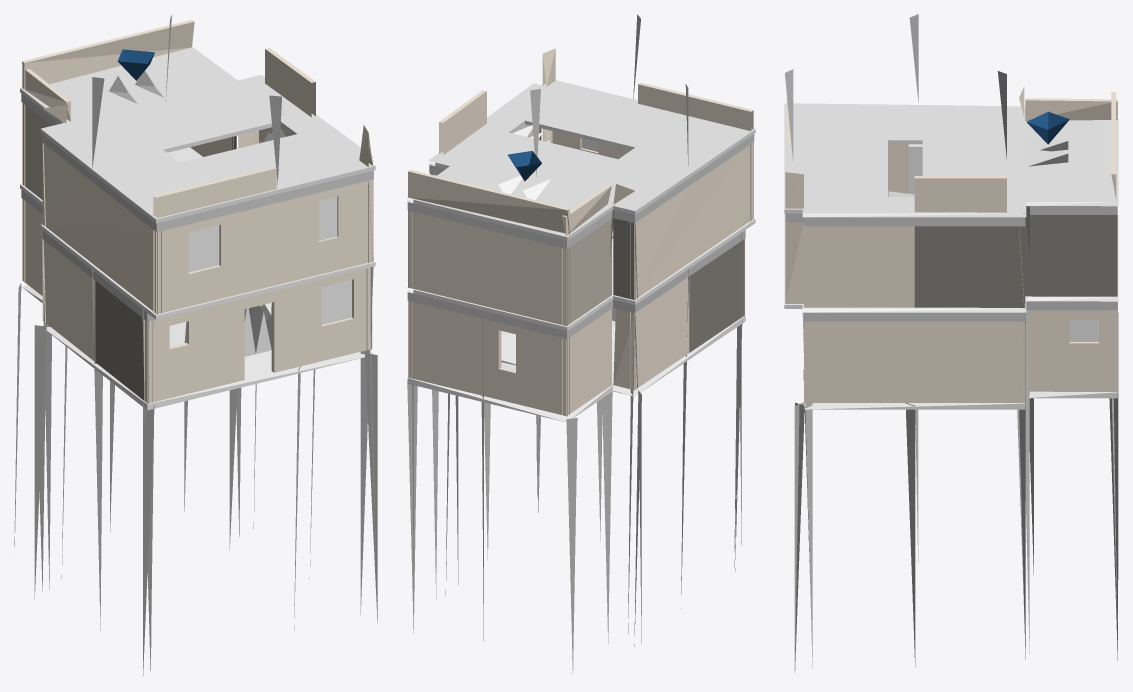
3 views of the same model, side by side, from view 1: azimuth 30°, elevation 25°; view 2: azimuth 150°, elevation 25°; view 3: azimuth 270°, elevation 25° (orthographic). The views are drawn at different scales.
Visible parts, largest first — view 1: F_0; view 2: F_0; view 3: F_0.
Part boxes in pixels (left/top/right/bottom): F_0: left=14, top=15, right=377, bottom=676; F_0: left=406, top=14, right=755, bottom=674; F_0: left=784, top=14, right=1118, bottom=673.
Bounding box in the file's own units: 7.07 × 16.63 × 9.06.
